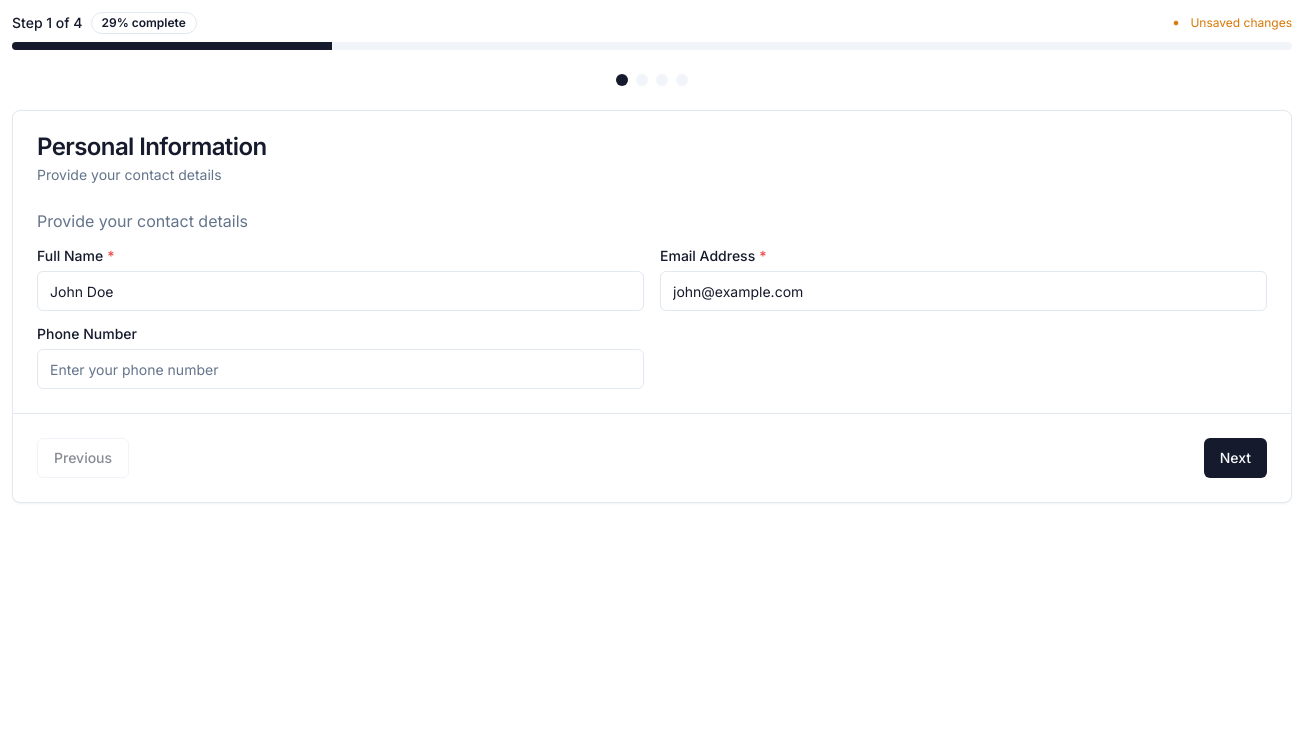
it: DisclosureForm (Form Renderer) › field rendering by type › should handle select field selection
Navigate to second section with select field
Click the button "Next" at x=1235, y=458, box [1204,438,1267,478]
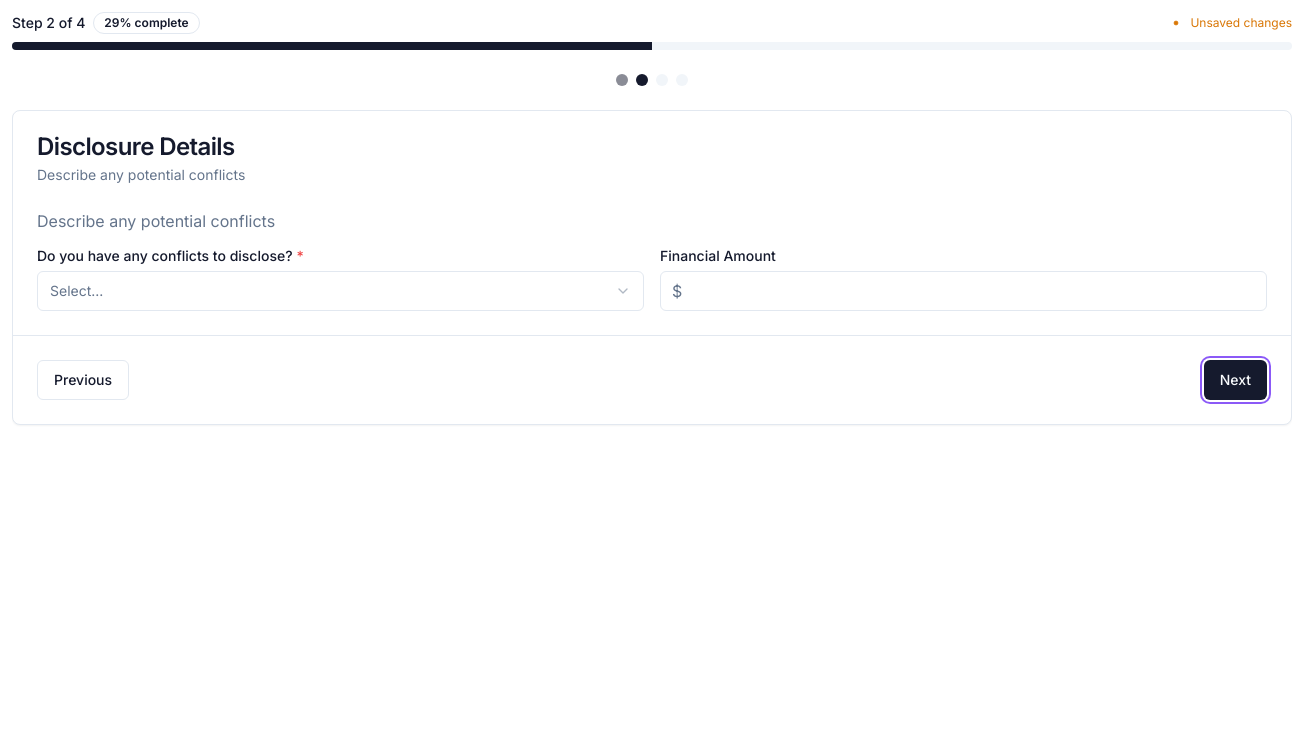
Now the heading "Disclosure Details" is shown, box [37,132,235,161]
